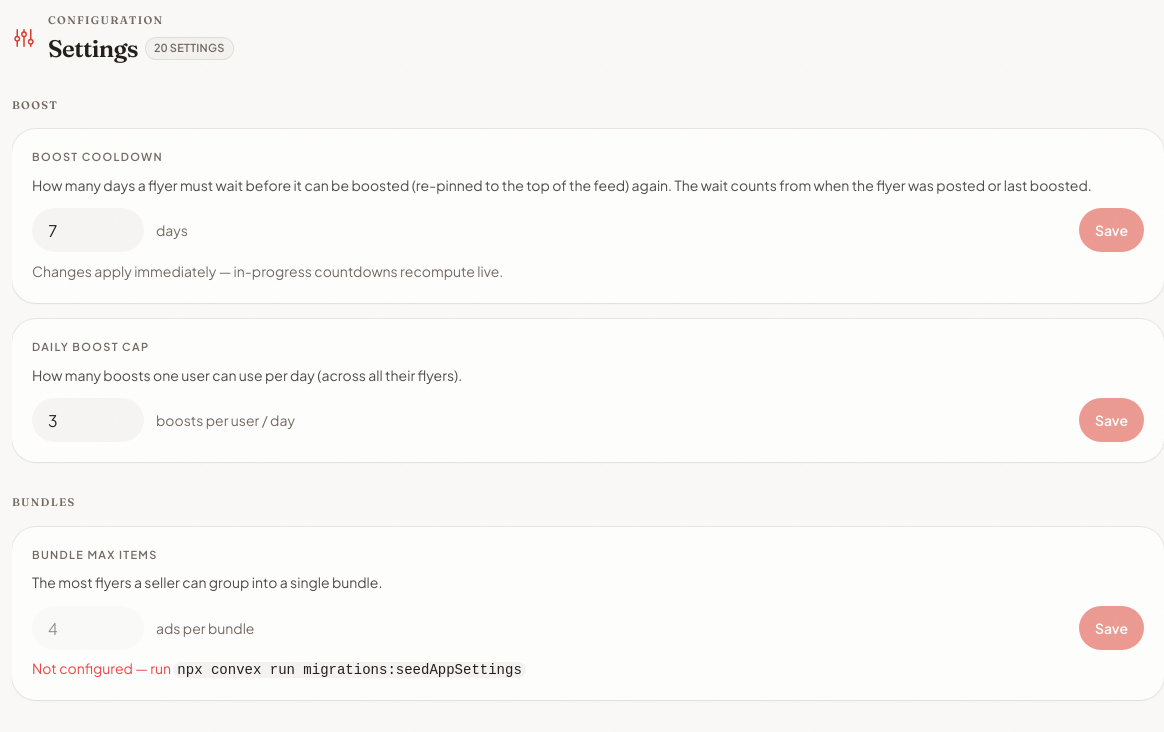
Test: SettingsTab › shows an out-of-range helper for a below-min value on the daily cap
The image size is (1164, 732).
Replace the text in the number field labelled "Daily boost cap" with "0" at (88,420), box [32,398,144,442]
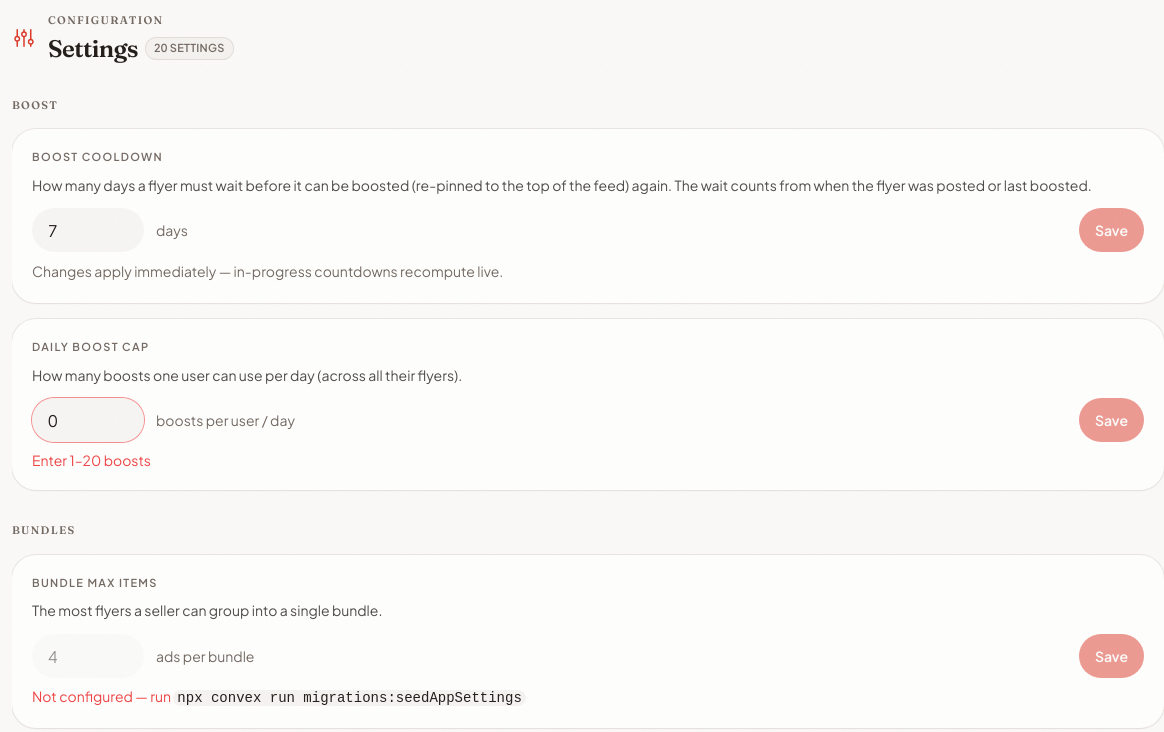
Check: the button "Save" in the row of "boosts per user / day" is disabled, box [1079,398,1144,442]
Check: the text "Enter 1–20 boosts" is shown, box [32,451,151,469]
